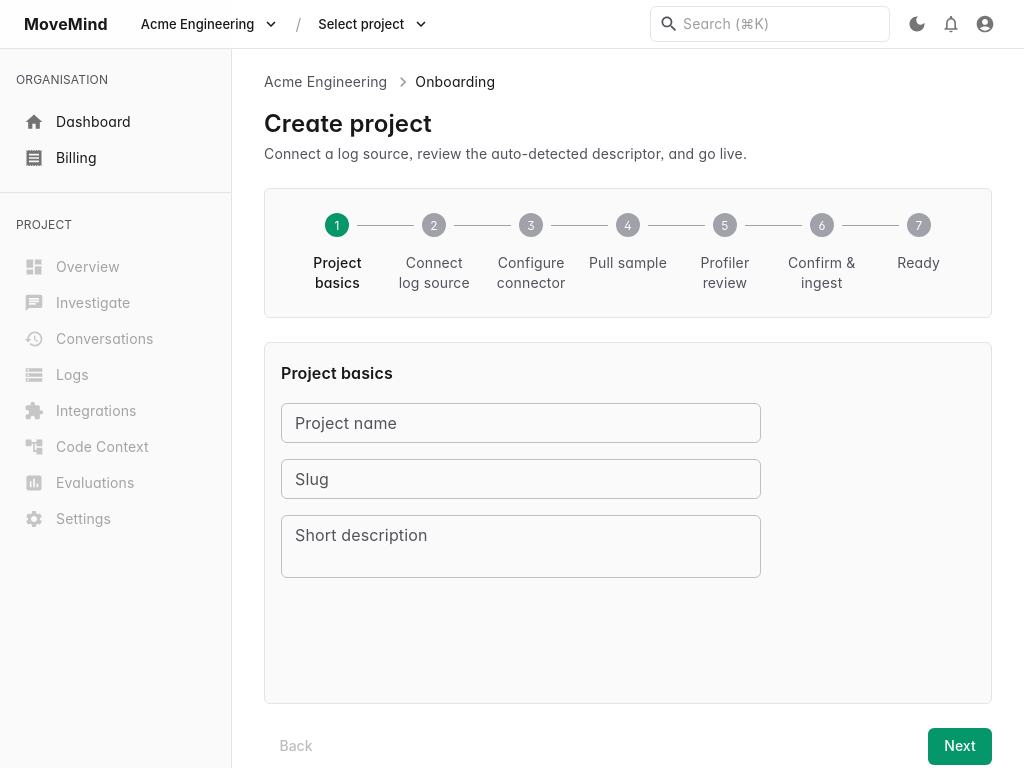
Test case: OnboardingWizard › navigates back from step 1 to step 0
Click the button "Next" at (960, 746), box [928,728,992,765]
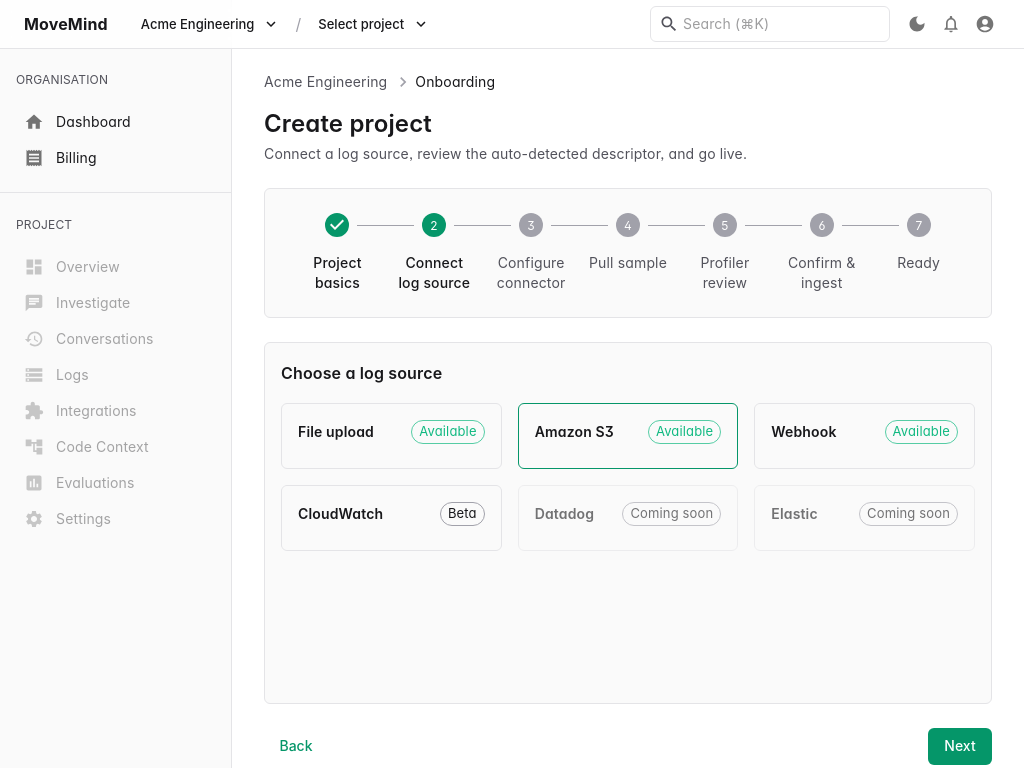
expect the heading "Choose a log source" is shown: met, box [281,363,442,383]
Click the button "Back" at (296, 746), box [264,728,328,765]
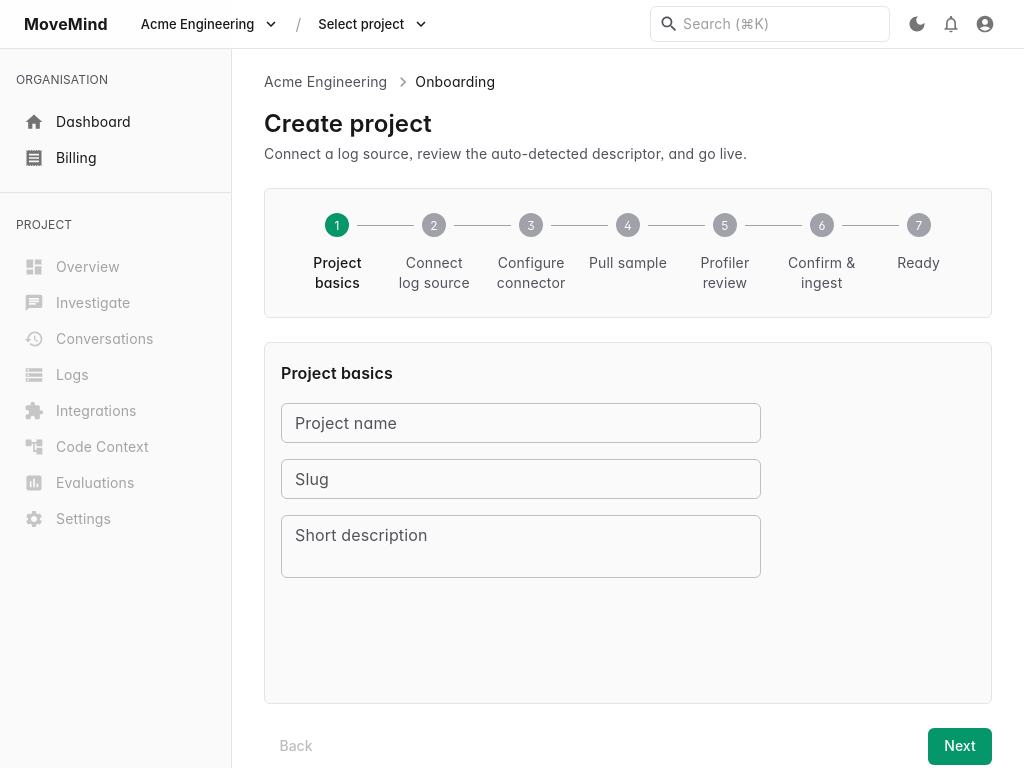
expect the field labelled "Project name" is shown: met, box [281,403,761,443]
